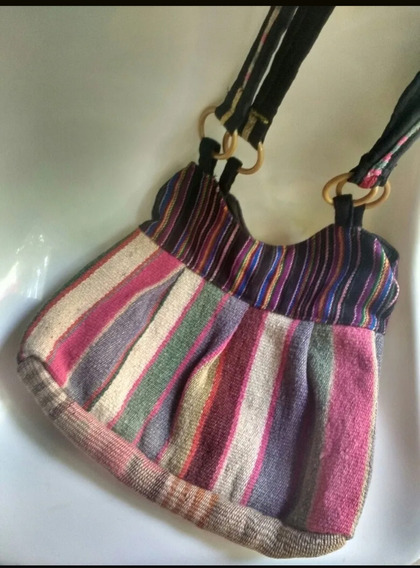cartera: (19, 9, 420, 557)
